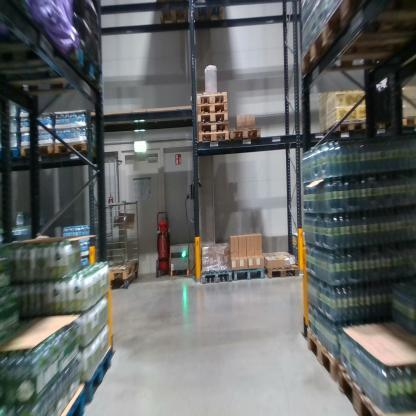pallet: (292, 27, 409, 80), (328, 356, 414, 411), (323, 0, 415, 48), (2, 49, 104, 90), (304, 322, 339, 387), (84, 343, 115, 409), (99, 260, 144, 294), (53, 137, 107, 162), (321, 119, 371, 143), (155, 0, 189, 29), (57, 388, 91, 414), (229, 123, 265, 147), (194, 2, 224, 30), (260, 260, 301, 280), (190, 88, 231, 108), (233, 264, 266, 285), (385, 113, 415, 135), (201, 267, 233, 285), (22, 144, 55, 161), (197, 114, 232, 129), (198, 132, 229, 147), (197, 121, 229, 135), (197, 104, 228, 116), (3, 147, 22, 163)
